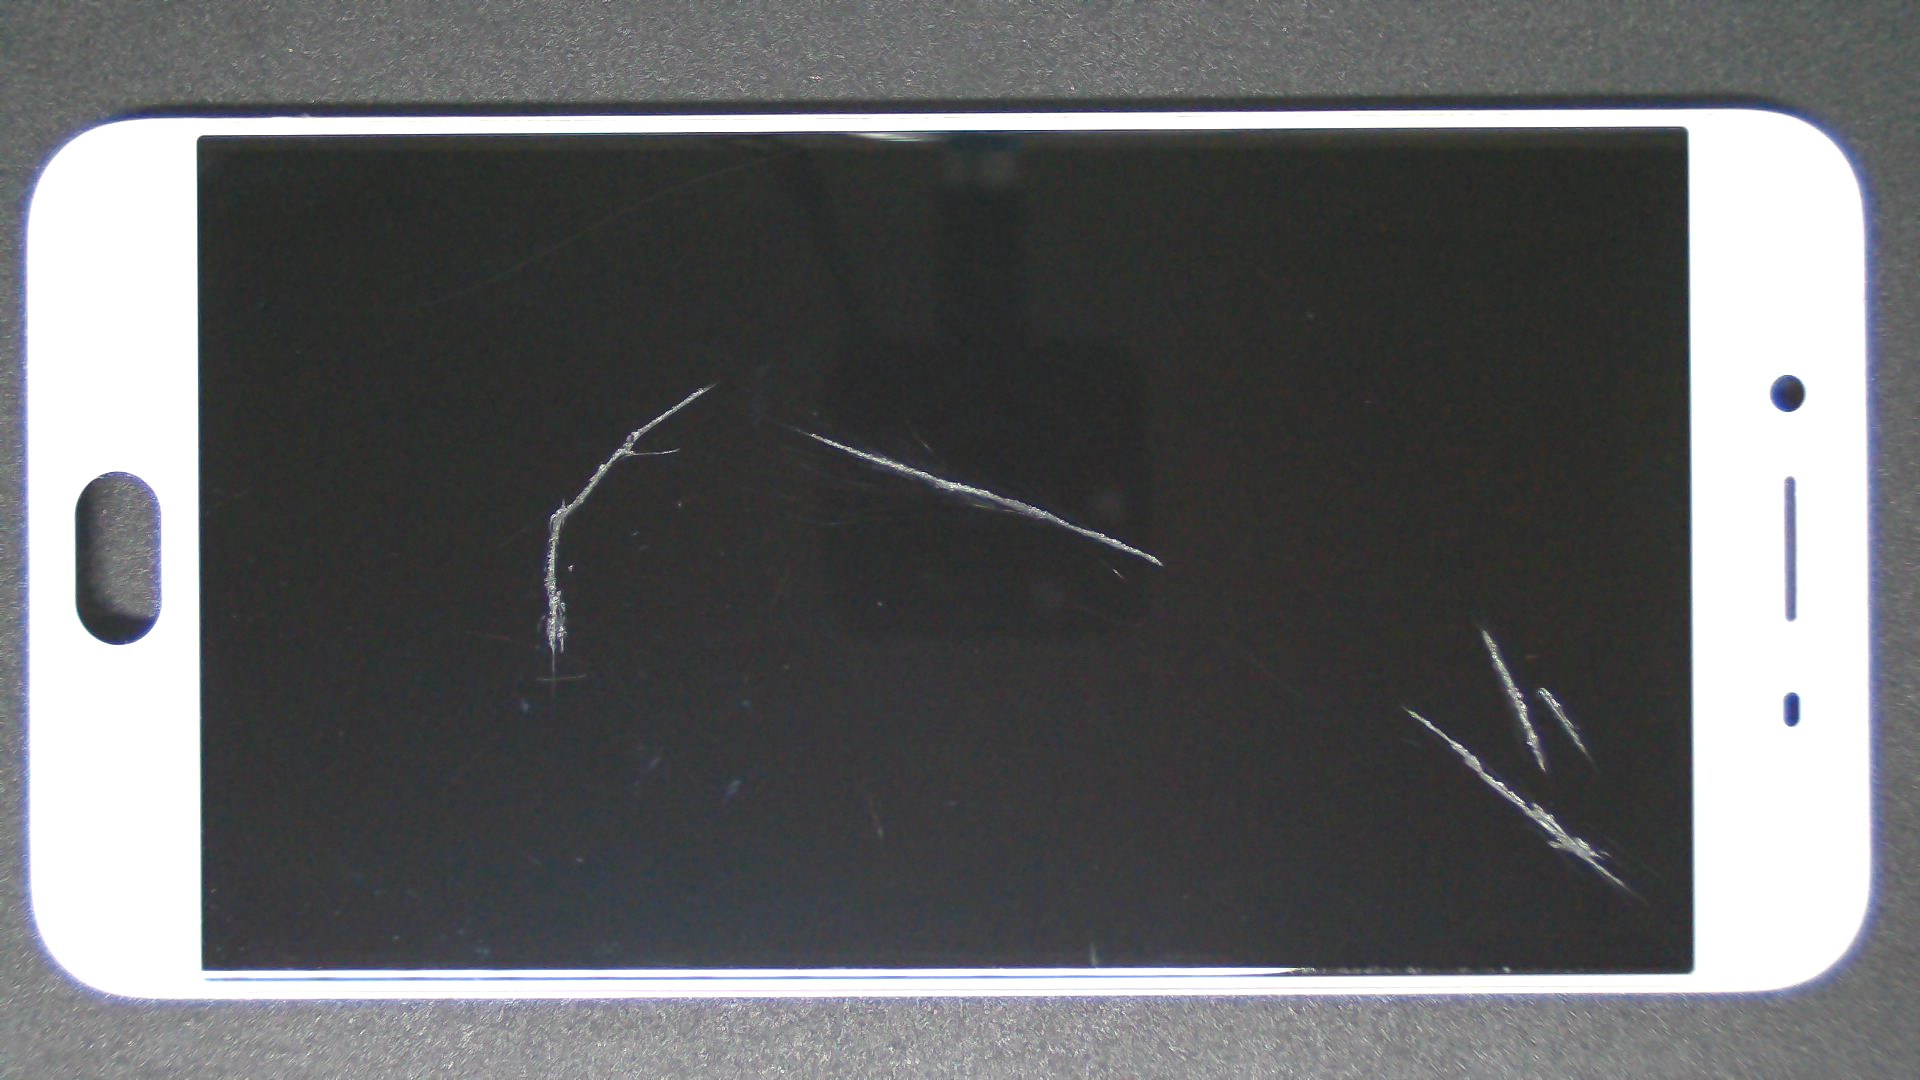oil: (695, 348, 1920, 1064), (770, 343, 1920, 1030), (741, 313, 1920, 942), (400, 214, 1197, 642), (360, 190, 1076, 574)
